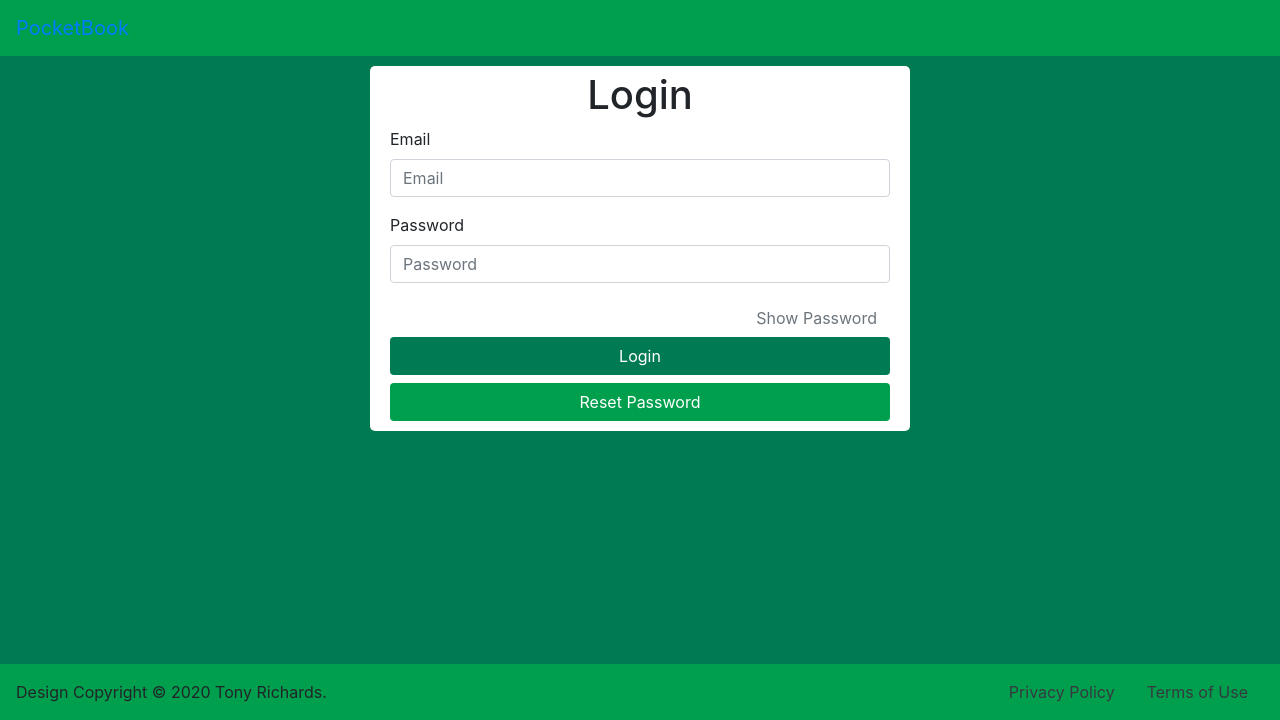
Test case: Login Page › renders server error correctly
Step 1. Type "test@sja.org.uk" into the field labelled "Email" → (640, 178), box x1=390 y1=159 x2=890 y2=197
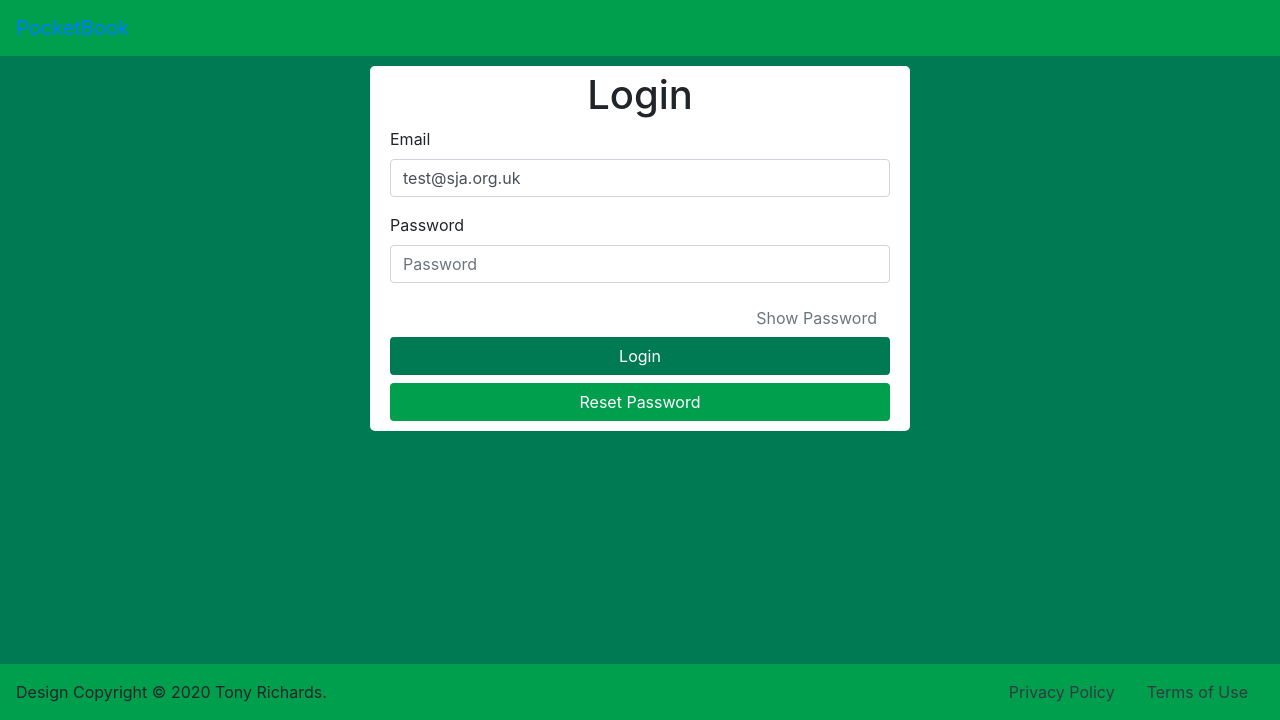
Step 2. Type "testPassword" into the password field labelled "Password" → (640, 264), box x1=390 y1=245 x2=890 y2=283
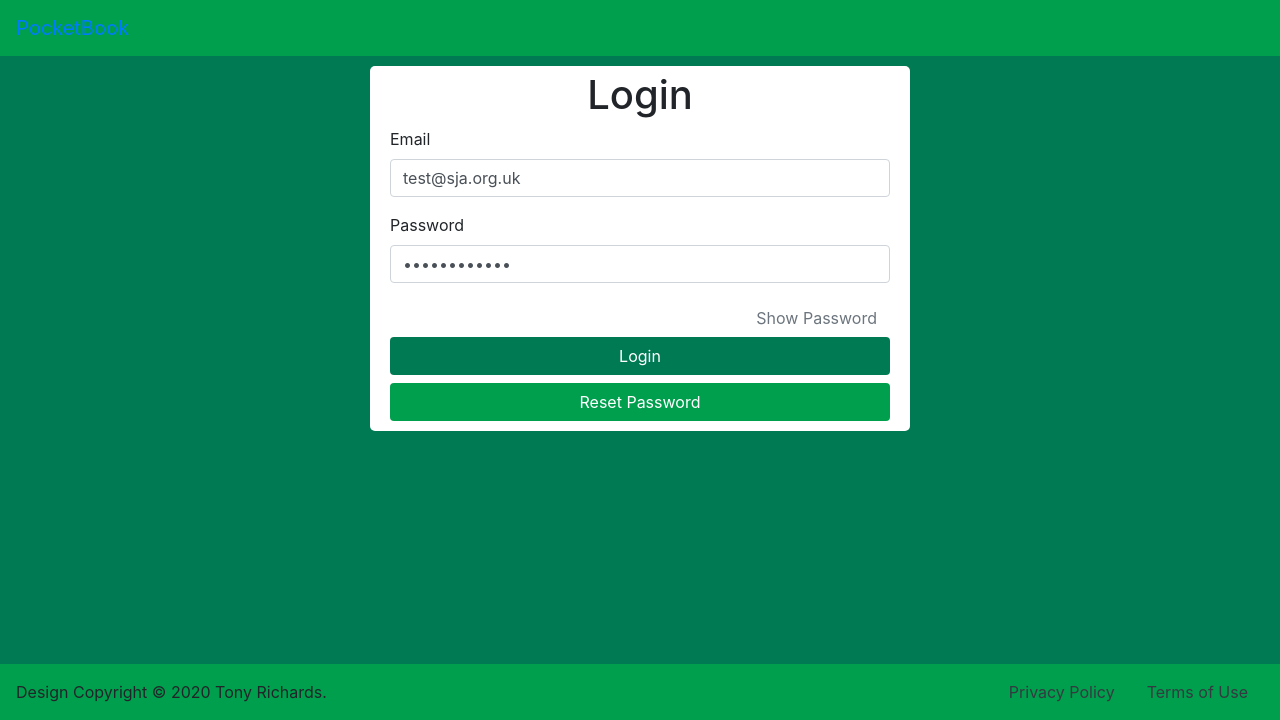
Step 3. Click the button "Login" → (640, 356), box x1=390 y1=337 x2=890 y2=375
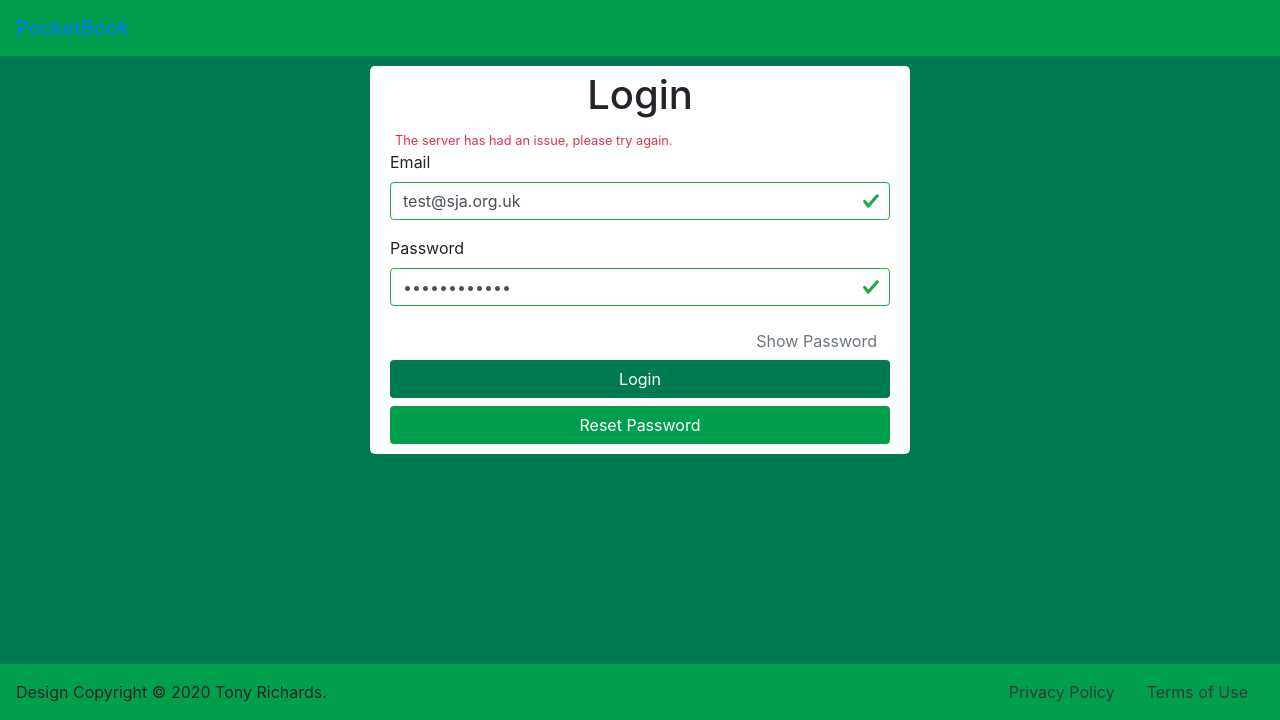
Now the text "The server has had an issue, please try again." is shown, box x1=395 y1=133 x2=673 y2=148
